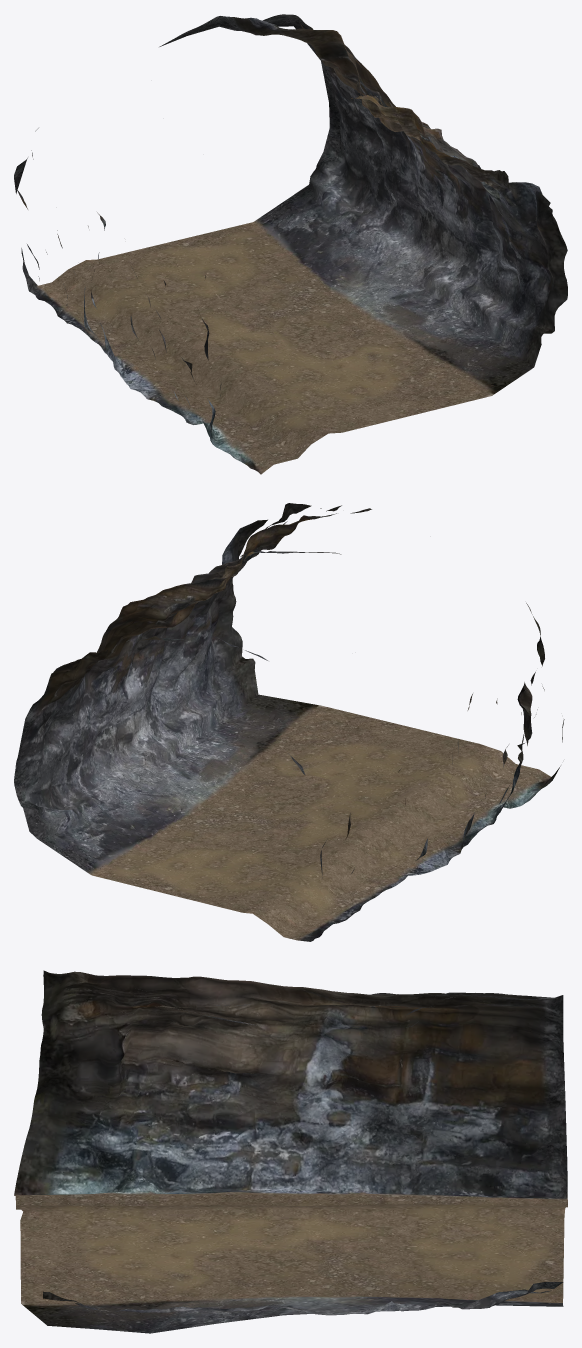
Rendered from TunnelA7.glb.
3 renders of one model, top to bottom at view 1: azimuth 30°, elevation 25°; view 2: azimuth 150°, elevation 25°; view 3: azimuth 270°, elevation 25°, orthographic. The views are drawn at different scales.
Visible parts, largest first — view 1: TunnelA7; view 2: TunnelA7; view 3: TunnelA7.
Boxes of the visible parts, x1=… form: TunnelA7: x1=14, y1=14, x2=567, y2=474; TunnelA7: x1=14, y1=503, x2=564, y2=941; TunnelA7: x1=14, y1=970, x2=567, y2=1333.
Bounding box in the file's own units: 4.77 × 3.19 × 5.53.
1 material, 1 textured.
